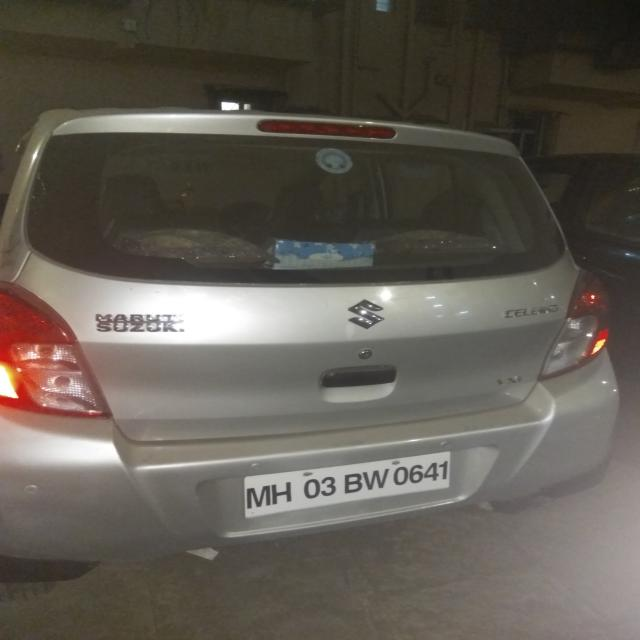Number-Plate: (243, 459, 458, 514)
